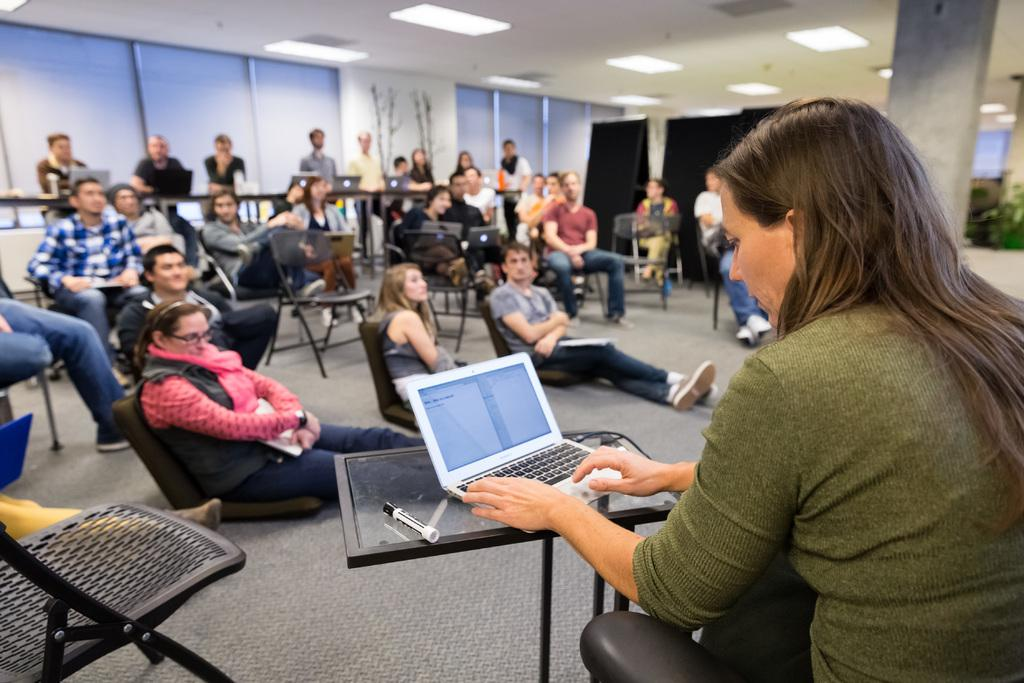Laptop: (400, 348, 634, 538), (466, 227, 499, 247), (289, 172, 317, 193), (332, 176, 361, 194), (385, 174, 412, 192)
